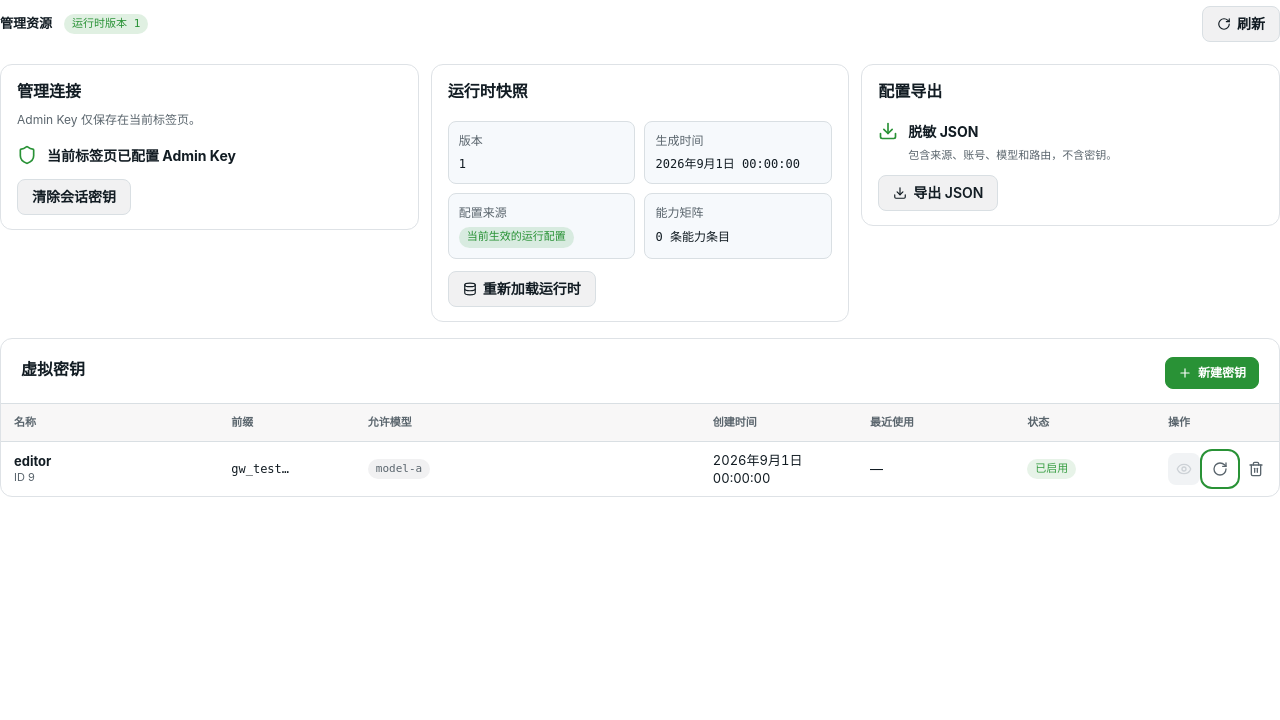
Test: Virtual Key rotation › retains the earlier expiry in the result modal through copying and clears secrets on close
This screenshot has width=1280, height=720.
Click the button named "轮换 editor" at (1220, 469), box [1204, 453, 1236, 485]
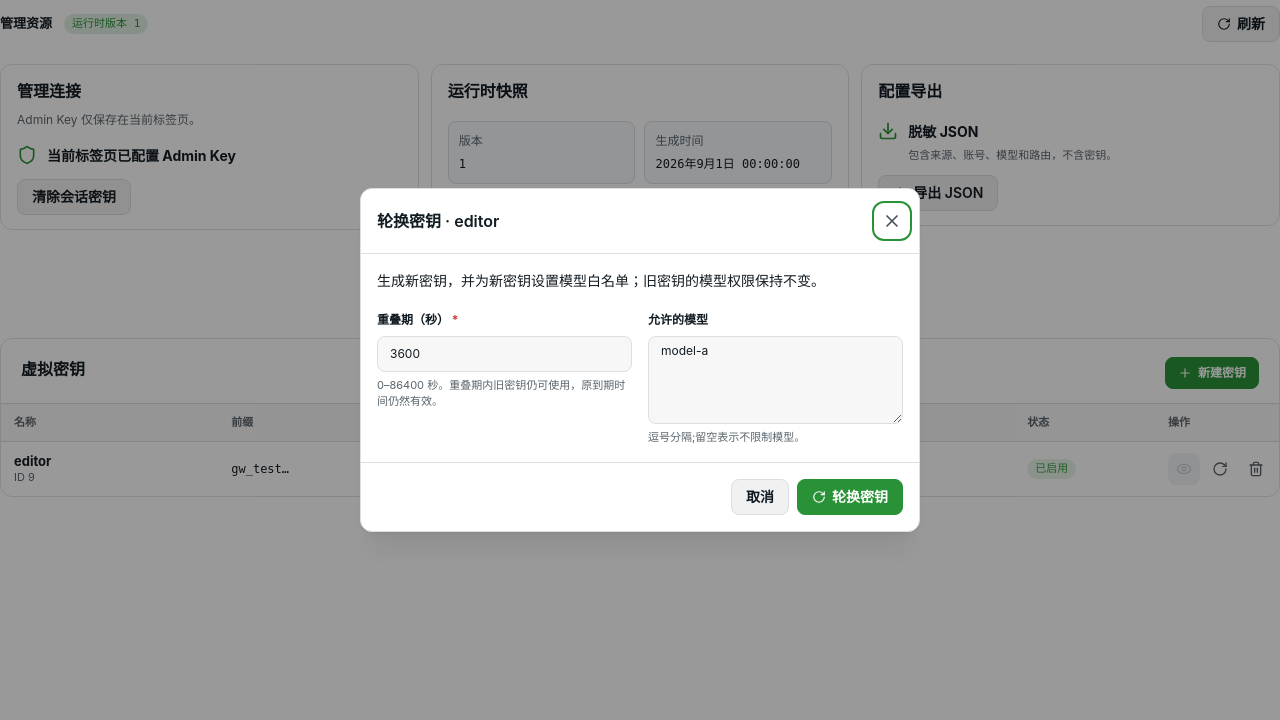
Now the button "轮换密钥" is shown
Click the button "轮换密钥" at (850, 497), box [797, 479, 903, 515]
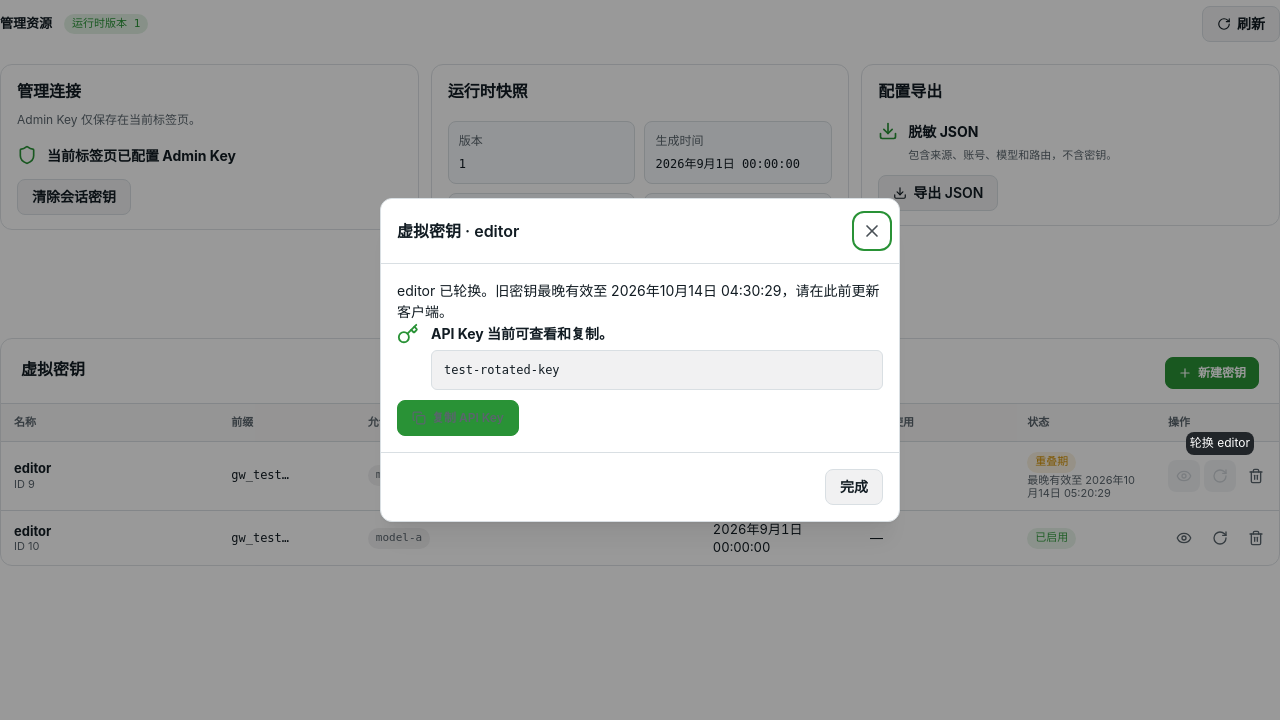
Now the button "复制 API Key" is shown
Click the button "复制 API Key" at (458, 418), box [397, 400, 519, 436]
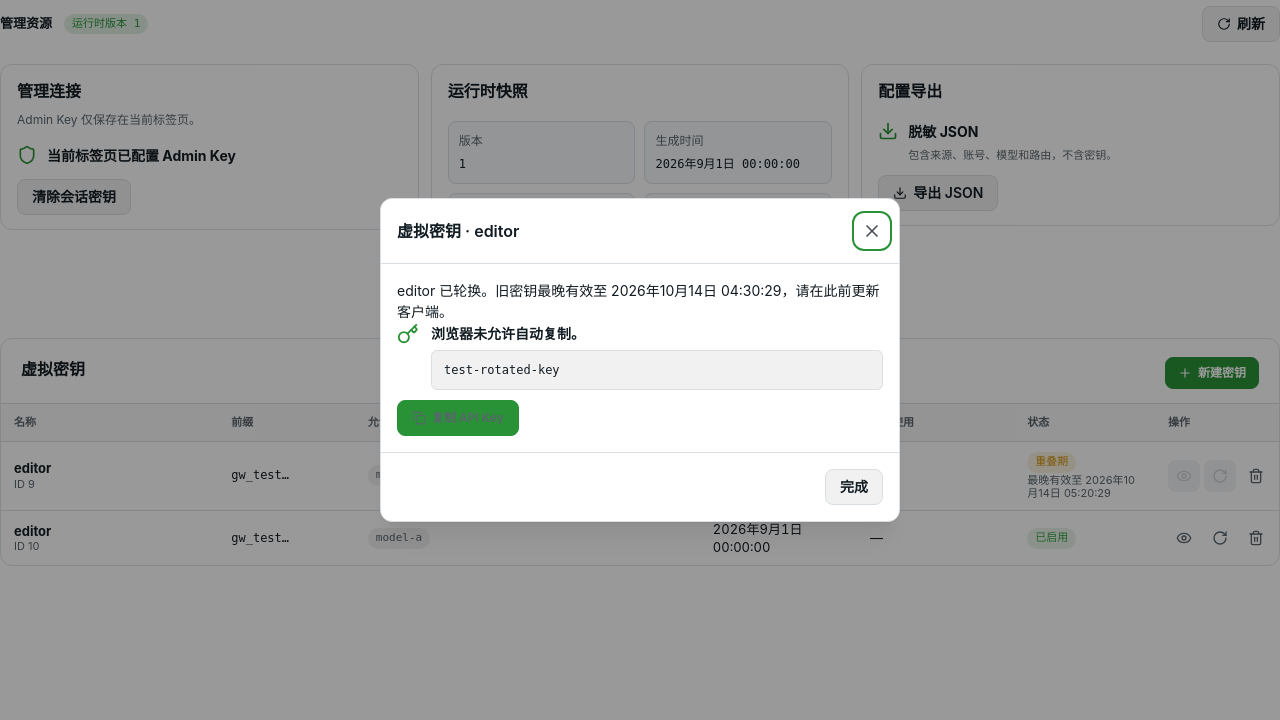
Now the dialog shows "复制"
Now the dialog shows "test-rotated-key", box [444, 363, 560, 377]
Now the button "复制 API Key" is shown
Click the button "复制 API Key" at (458, 418), box [397, 400, 519, 436]
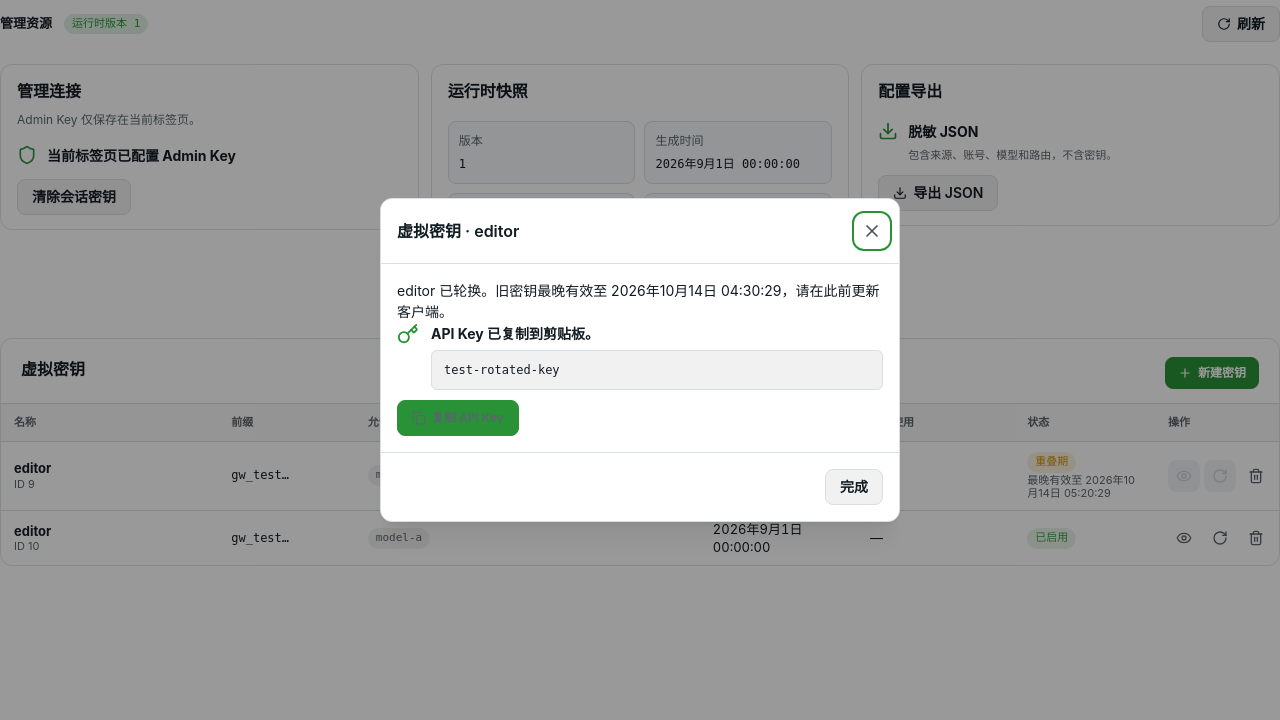
Expected: the text "test-rotated-key" is not shown
Now the button "完成" is shown
Now the dialog shows "API Key 已复制到剪贴板", box [431, 325, 599, 342]
Click the button "完成" at (854, 487), box [825, 469, 883, 505]
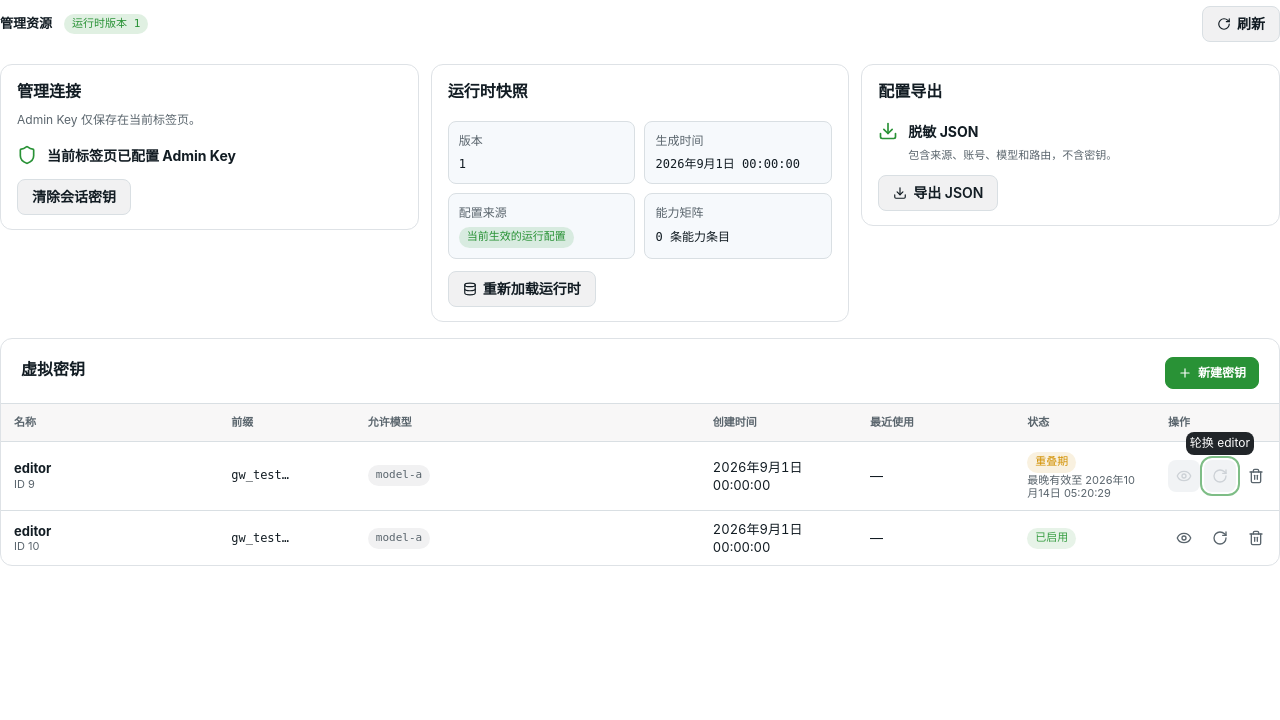
Now the text "test-rotated-key" is gone
Now the text "API Key 已复制到剪贴板" is gone
